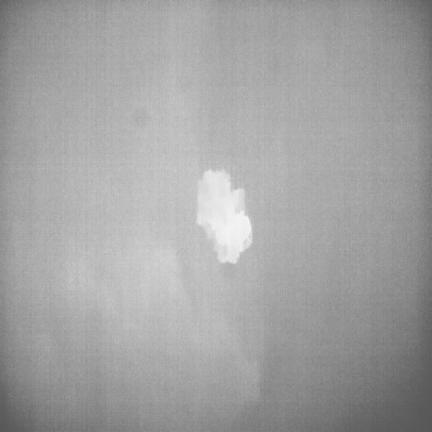flukeprints: (196, 170, 252, 263)
